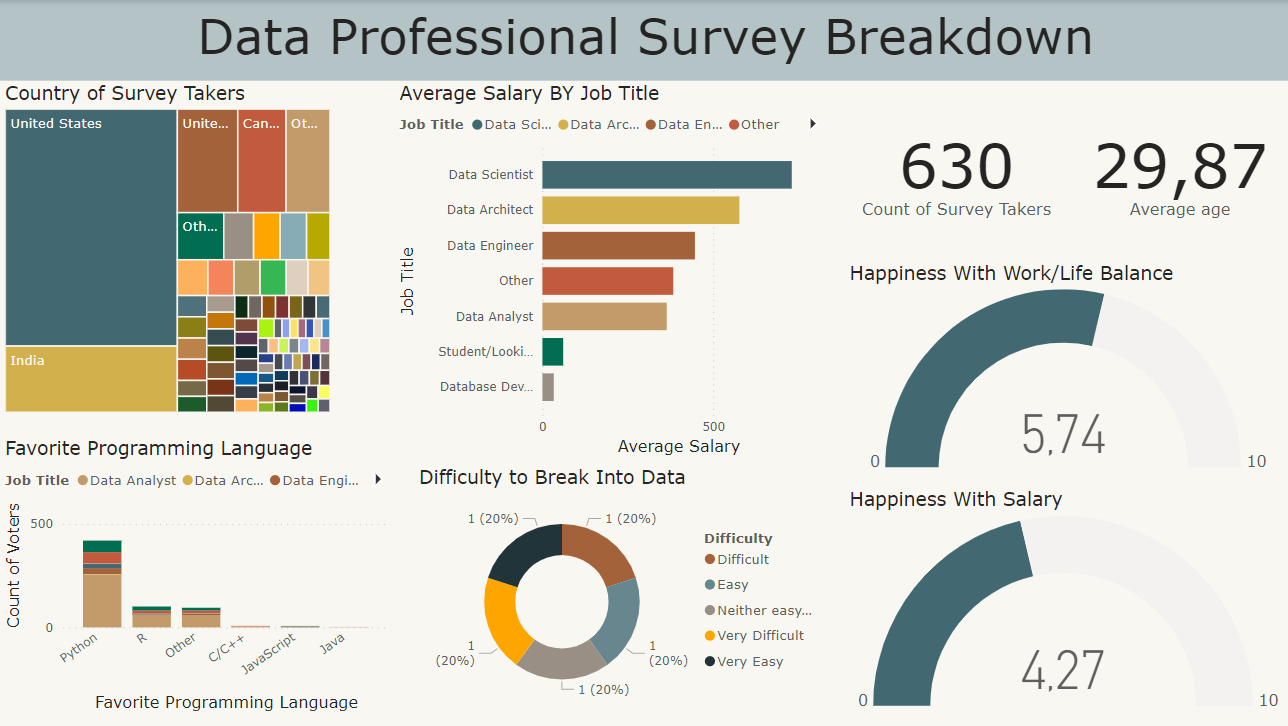

Layout of this report page (visuals, bound fields, positions):
{"tool":"powerbi","page":{"name":"Page 1","canvas":[1280,720],"ordinal":0},"visuals":[{"type":"textbox","box":[0,0,1280.5,80.3],"z":0},{"type":"card","fields":{"Values":["Count(Data Professional Survey.Unique ID)"]},"box":[837.3,80.3,221.6,178.5],"z":1000},{"type":"card","fields":{"Values":["Avg(Data Professional Survey.Q10 - Current Age)"]},"box":[1058.9,80.3,221.6,178.5],"z":2000},{"type":"barChart","title":"Average Salary BY Job Title  ","fields":{"Category":["Data Professional Survey.Q1 - Which Title Best Fits your Current Role?.1"],"Y":["Avg(Data Professional Survey.Average Salary)"],"Series":["Data Professional Survey.Q1 - Which Title Best Fits your Current Role?.1"]},"box":[391.1,80.4,434.2,376],"z":3000},{"type":"columnChart","title":"Favorite Programming Language","fields":{"Category":["Data Professional Survey.Q5 - Favorite Programming Language.1"],"Y":["CountNonNull(Data Professional Survey.Unique ID)"],"Series":["Data Professional Survey.Q1 - Which Title Best Fits your Current Role?.1"]},"box":[0,432.3,391.1,277.3],"z":4000},{"type":"treemap","title":"Country of Survey Takers","fields":{"Group":["Data Professional Survey.Q11 - Which Country do you live in?"],"Values":["CountNonNull(Data Professional Survey.Q11 - Which Country do you live in?)"]},"box":[0,80.3,331.7,333.1],"z":4001},{"type":"gauge","title":"Happiness With Work/Life Balance","fields":{"Y":["Avg(Data Professional Survey.Q6 - How Happy are you in your Current Position with the following? (Work/Life Balance))"],"MinValue":["Min(Data Professional Survey.Q6 - How Happy are you in your Current Position with the following? (Work/Life Balance))"],"MaxValue":["Max(Data Professional Survey.Q6 - How Happy are you in your Current Position with the following? (Work/Life Balance))1"]},"box":[837.3,258.8,443.2,214.2],"z":4002},{"type":"gauge","title":"Happiness With Salary","fields":{"Y":["Avg(Data Professional Survey.Q6 - How Happy are you in your Current Position with the following? (Salary))"],"MinValue":["Min(Data Professional Survey.Q6 - How Happy are you in your Current Position with the following? (Salary))"],"MaxValue":["Max(Data Professional Survey.Q6 - How Happy are you in your Current Position with the following? (Salary))"]},"box":[837.3,483.4,443.2,226.1],"z":4003},{"type":"donutChart","title":"Difficulty to Break Into Data","fields":{"Category":["Data Professional Survey.Q7 - How difficult was it for you to break into Data?"],"Y":["Count(Data Professional Survey.Q7 - How difficult was it for you to break into Data?)"]},"box":[410.7,461.7,414.6,247.8],"z":4004}]}

Visuals, with their boxes in screenshot pixels (x1, y1, x2, y2), scaled from the page's 1280x720 canvas onto the 1288x726 screenshot:
textbox: bbox=(0, 0, 1287, 81)
card - Count(Data Professional Survey.Unique ID): bbox=(843, 81, 1066, 261)
card - Avg(Data Professional Survey.Q10 - Current Age): bbox=(1066, 81, 1287, 261)
"Average Salary BY Job Title  " barChart: bbox=(394, 81, 830, 460)
"Favorite Programming Language" columnChart: bbox=(0, 436, 394, 716)
"Country of Survey Takers" treemap: bbox=(0, 81, 334, 417)
"Happiness With Work/Life Balance" gauge: bbox=(843, 261, 1287, 477)
"Happiness With Salary" gauge: bbox=(843, 487, 1287, 715)
"Difficulty to Break Into Data" donutChart: bbox=(413, 466, 830, 715)
